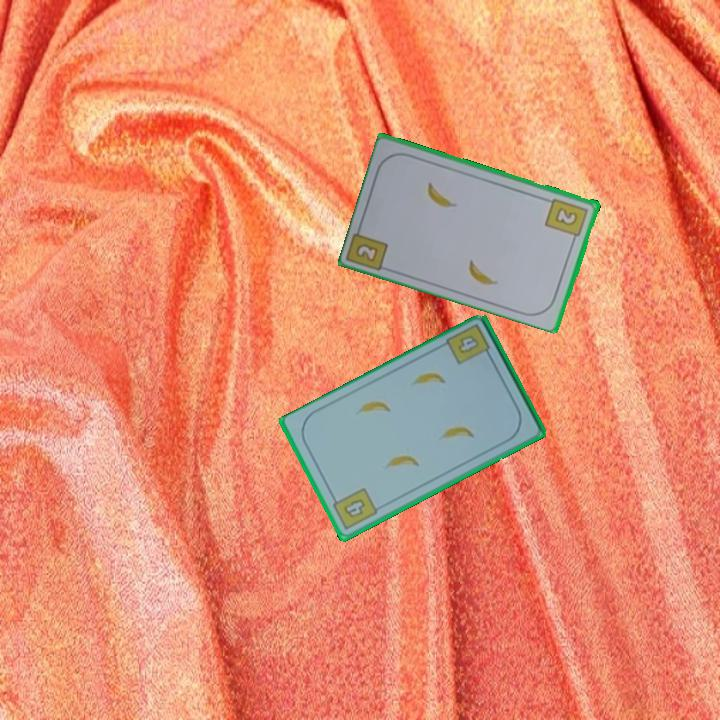2b: (542, 195, 591, 244), (354, 242, 379, 262)
4b: (328, 484, 381, 533), (443, 320, 495, 368)
